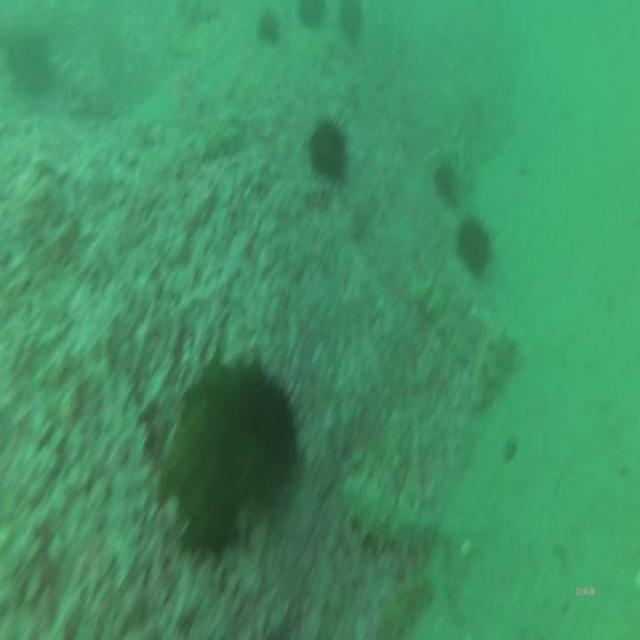echinus: (222, 357, 302, 498), (2, 23, 53, 102), (305, 110, 349, 186), (454, 213, 496, 275), (428, 158, 458, 207), (335, 0, 365, 47), (255, 8, 280, 50), (296, 0, 327, 32)
holothurian: (339, 466, 441, 569), (410, 270, 479, 365), (354, 574, 434, 638), (468, 322, 521, 416)
